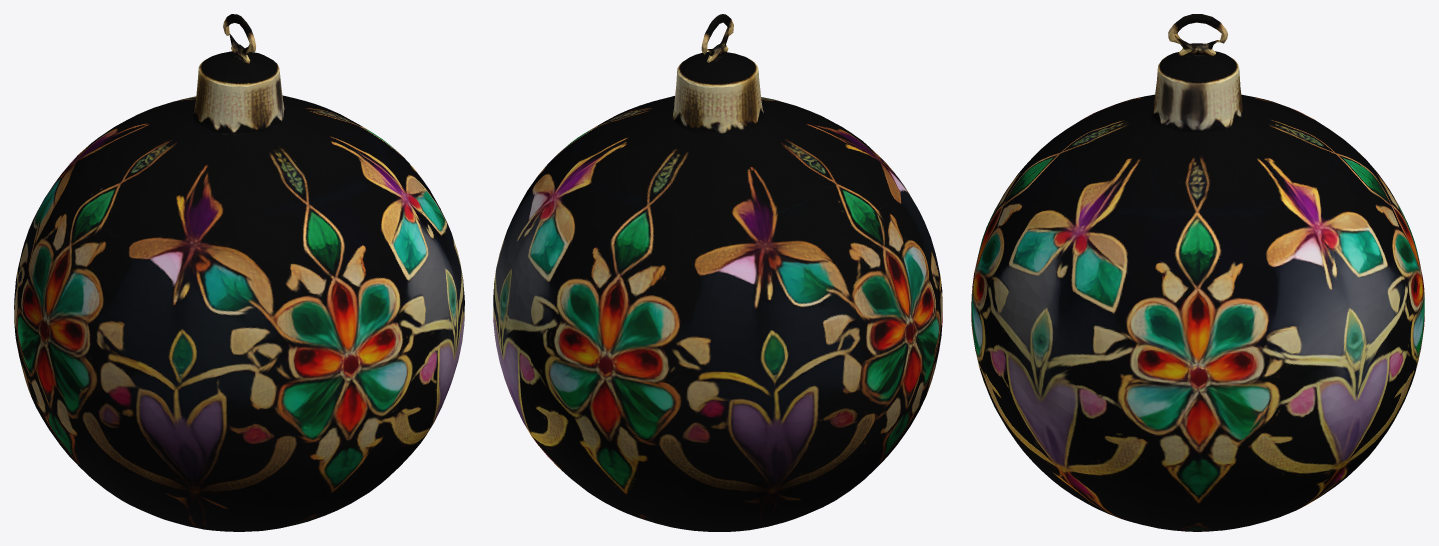
File: ceramic-christmas-ornament-art-deco.jpeg.glb
3 renders of one model, left to right at view 1: azimuth 30°, elevation 25°; view 2: azimuth 150°, elevation 25°; view 3: azimuth 270°, elevation 25°, orthographic.
Visible parts, largest first — view 1: world; view 2: world; view 3: world.
Part boxes in pixels (x1,y1,x2,y2): world: [14, 14, 464, 531]; world: [493, 14, 942, 531]; world: [971, 14, 1424, 531].
Bounding box in the file's own units: 0.8241 × 0.9945 × 0.8252.
1 material, 1 textured.
